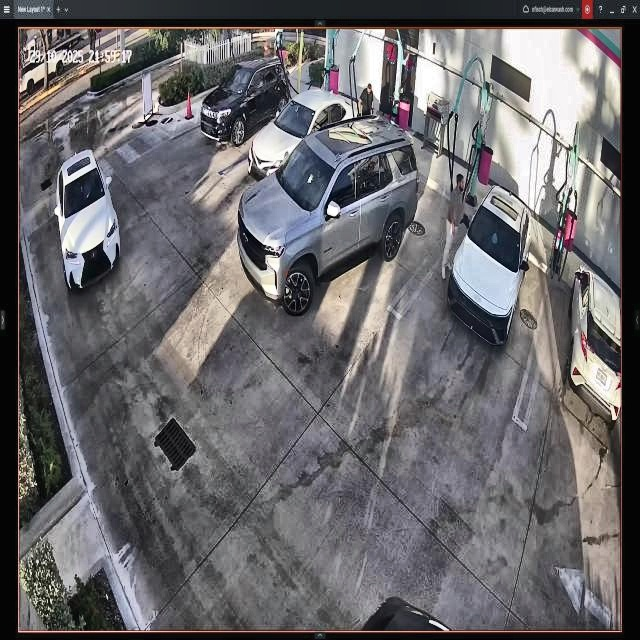Car: (238, 119, 418, 315), (450, 184, 533, 344), (248, 83, 362, 183), (201, 58, 288, 144)
